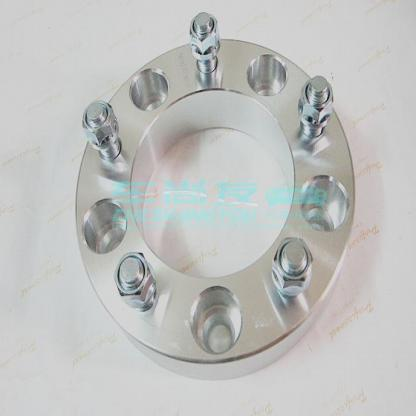FOD: (68, 27, 361, 387)
